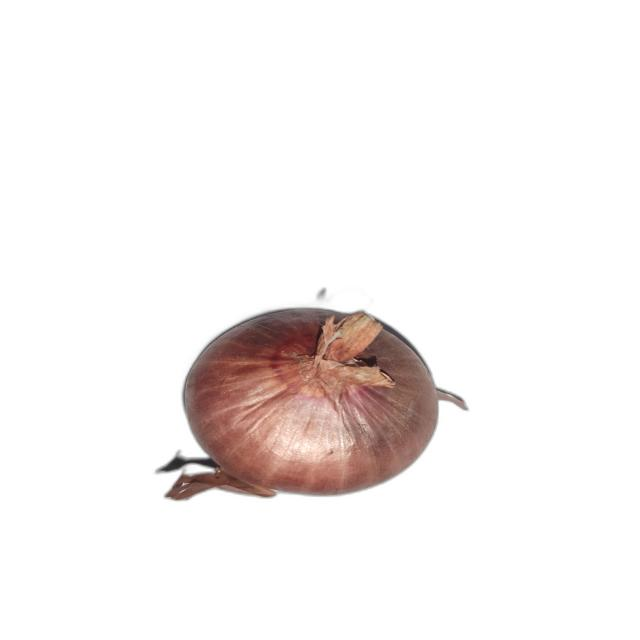onion: (165, 308, 469, 500)
